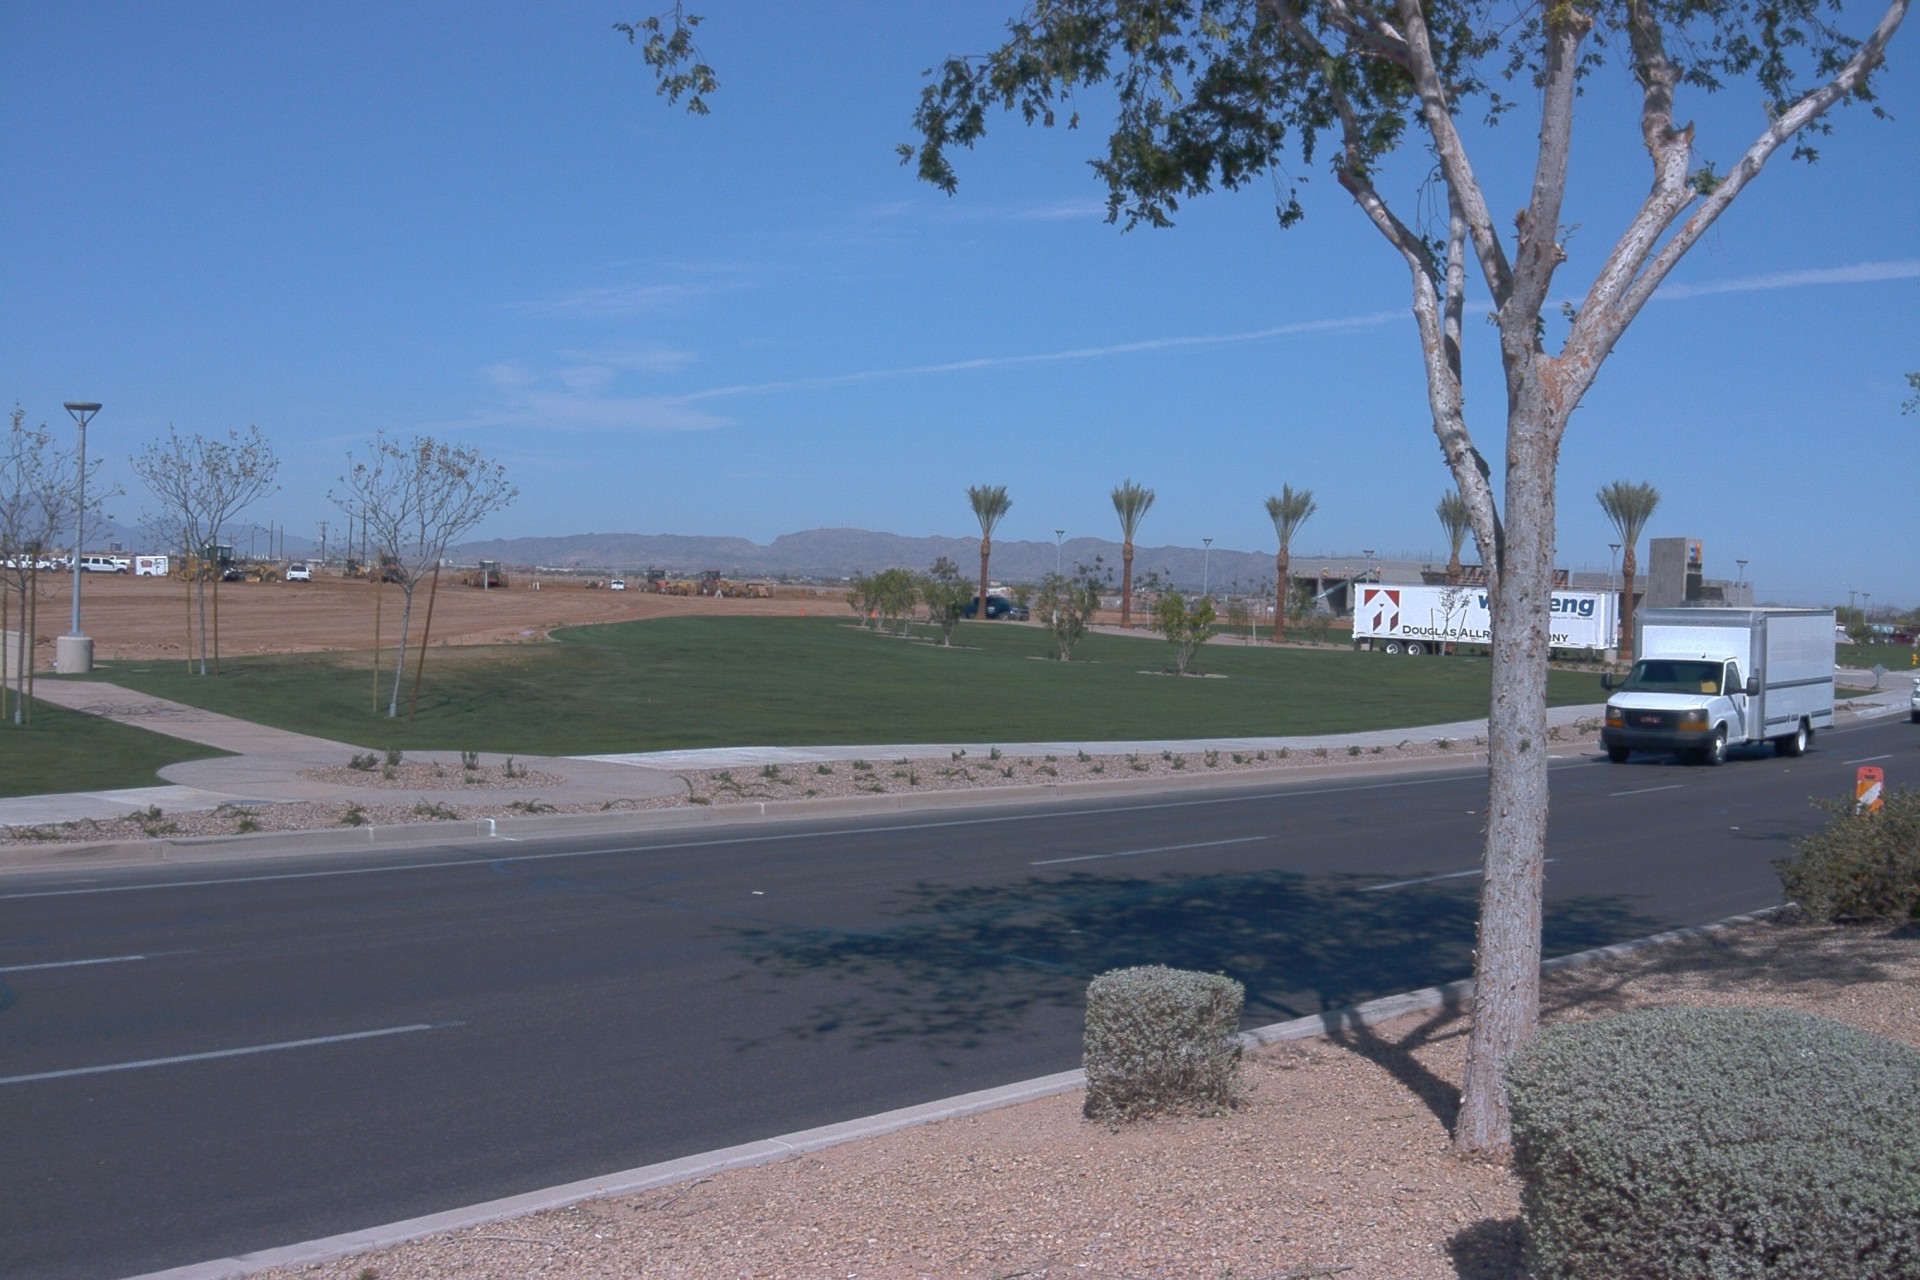TYPE_PEDESTRIAN: (597, 577, 605, 590), (585, 576, 593, 589)
TYPE_VEHICLE: (1598, 607, 1835, 770), (1348, 579, 1622, 667), (165, 542, 277, 587), (1311, 562, 1380, 608), (945, 588, 1035, 619), (459, 558, 511, 588), (66, 556, 129, 575), (1, 555, 61, 574), (374, 552, 406, 585), (131, 555, 173, 577), (982, 580, 1026, 600), (282, 565, 315, 584), (342, 557, 367, 578), (1910, 676, 1920, 726), (107, 553, 130, 566), (50, 553, 73, 566), (611, 575, 628, 589), (0, 541, 11, 556)
